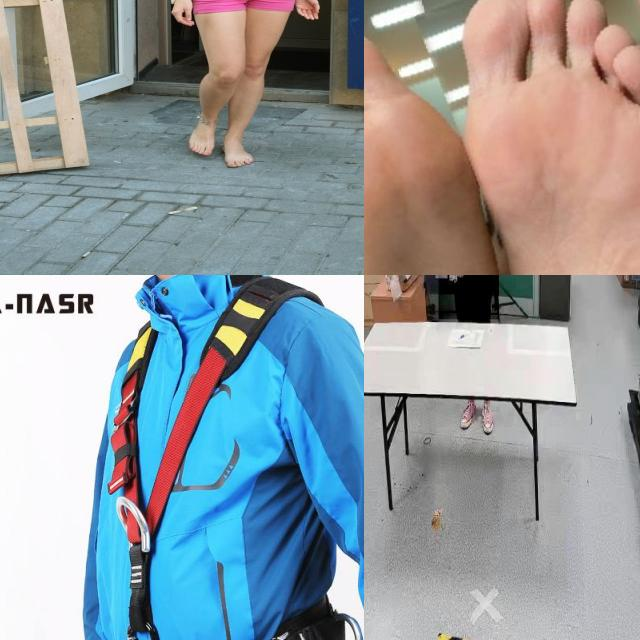Barefoots: (364, 0, 580, 275), (433, 0, 640, 275), (189, 116, 218, 156), (222, 140, 254, 168)
Harness: (93, 275, 353, 640)
hand_glove: (449, 275, 460, 292)
person: (438, 275, 499, 320)
shoes: (478, 399, 496, 434), (459, 396, 477, 429)
